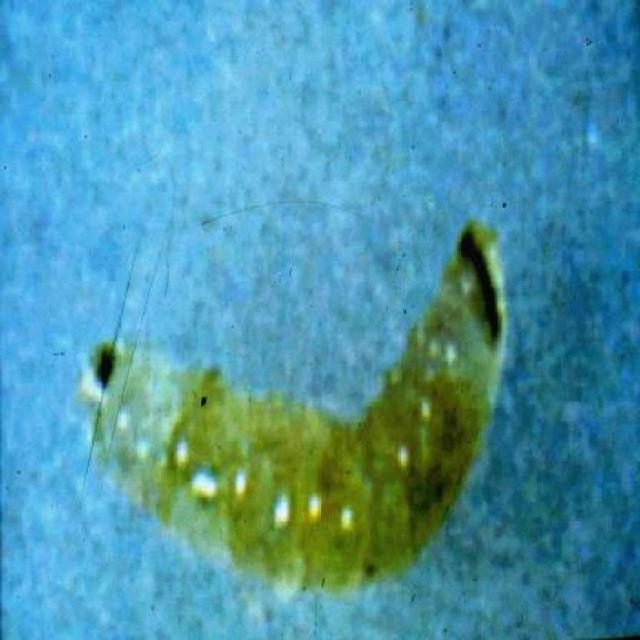whorl-maggot: (79, 217, 511, 609)
